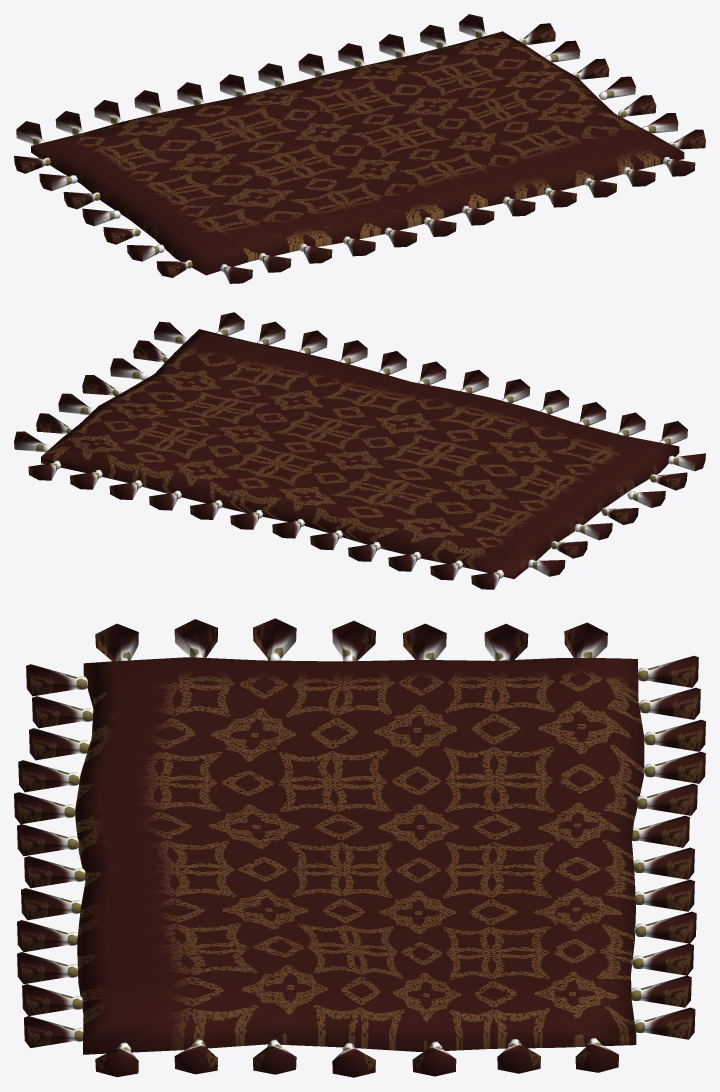
Rendered from CarpetS (1).fbx.
3 renders of one model, top to bottom at view 1: azimuth 30°, elevation 25°; view 2: azimuth 150°, elevation 25°; view 3: azimuth 270°, elevation 25°, orthographic. The views are drawn at different scales.
Visible parts, largest first — view 1: Plane.001; view 2: Plane.001; view 3: Plane.001.
Boxes of the visible parts, x1,y1,x2,y2 form: Plane.001: (14,14,705,283); Plane.001: (14,312,705,589); Plane.001: (14,618,705,1077).
Bounding box in the file's own units: 655 × 16.39 × 438.
